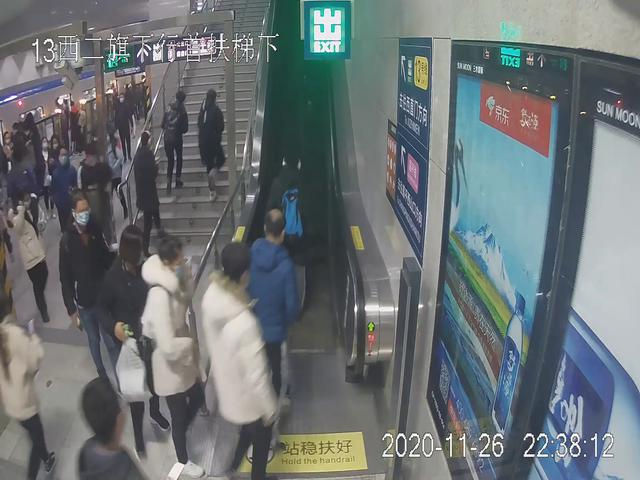person: (198, 243, 281, 476), (138, 233, 216, 480), (53, 188, 122, 408), (109, 221, 171, 450), (2, 292, 67, 475), (57, 374, 152, 480), (246, 210, 296, 373), (10, 187, 54, 327), (127, 128, 163, 233), (162, 93, 193, 195), (198, 87, 225, 202)
